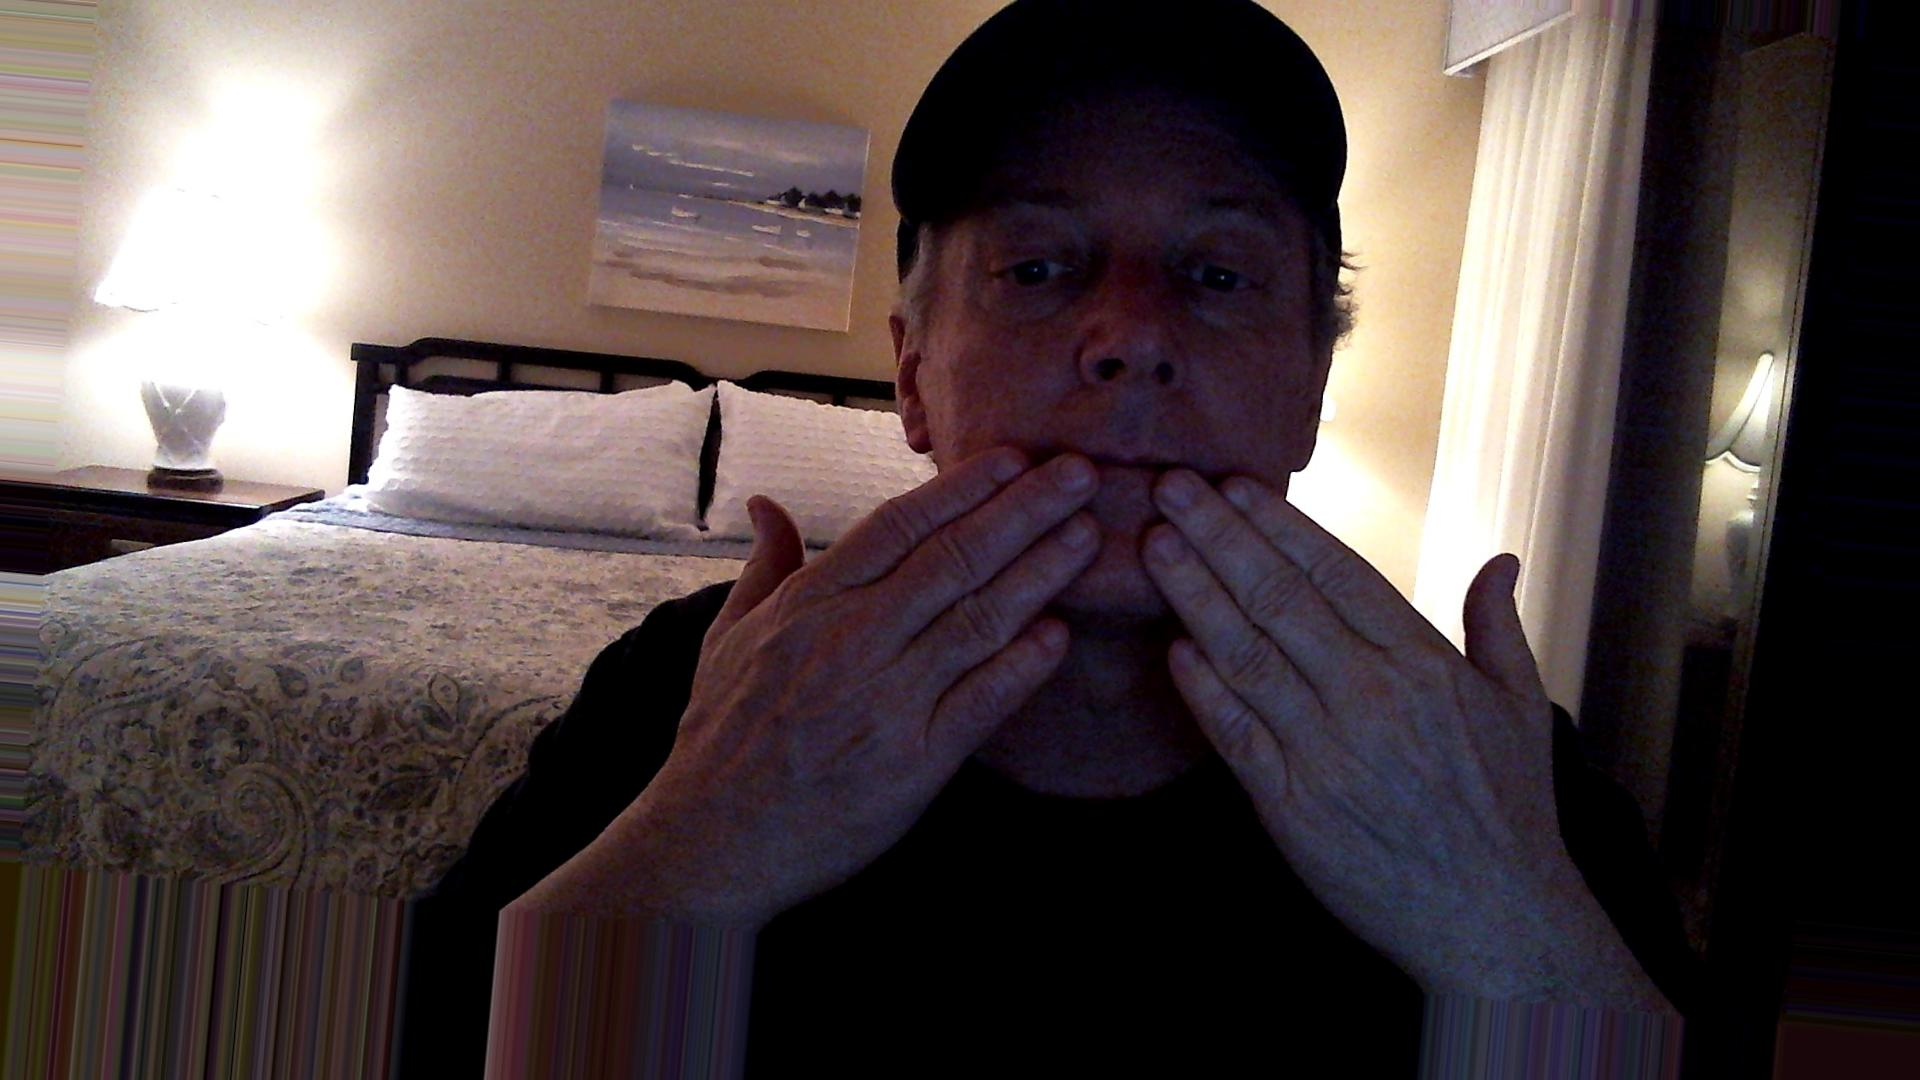Thank You: (711, 414, 1575, 894)
